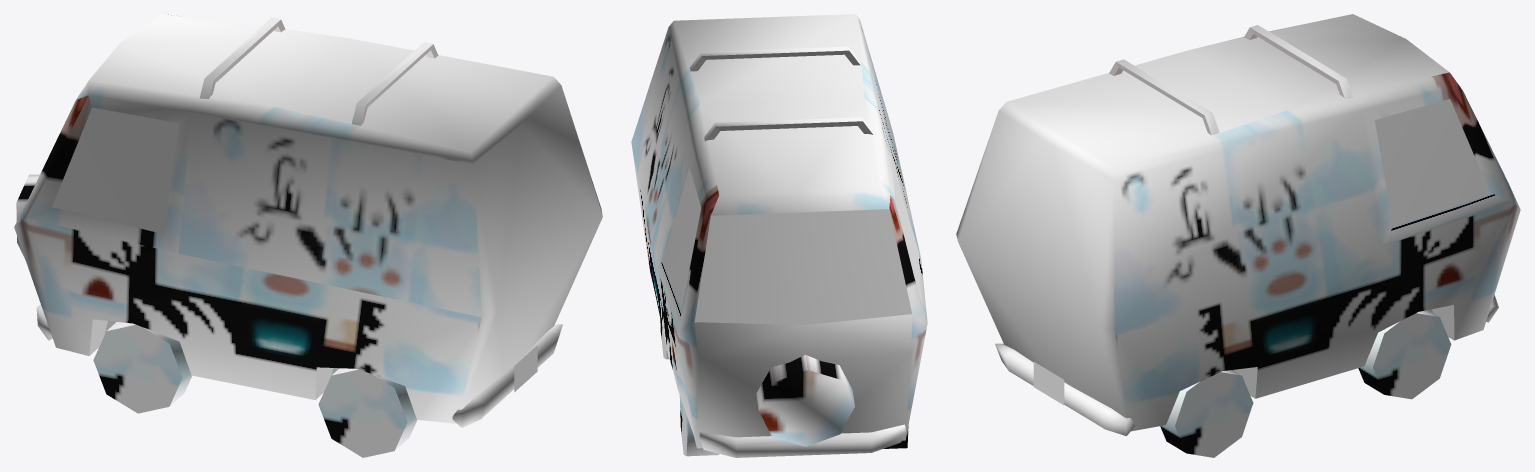
File: static.ico.obj
3 views of the same model, side by side, from view 1: azimuth 30°, elevation 25°; view 2: azimuth 150°, elevation 25°; view 3: azimuth 270°, elevation 25° (orthographic). The views are drawn at different scales.
Size of the model in its own units: 3.43 by 2.46 by 3.86.
